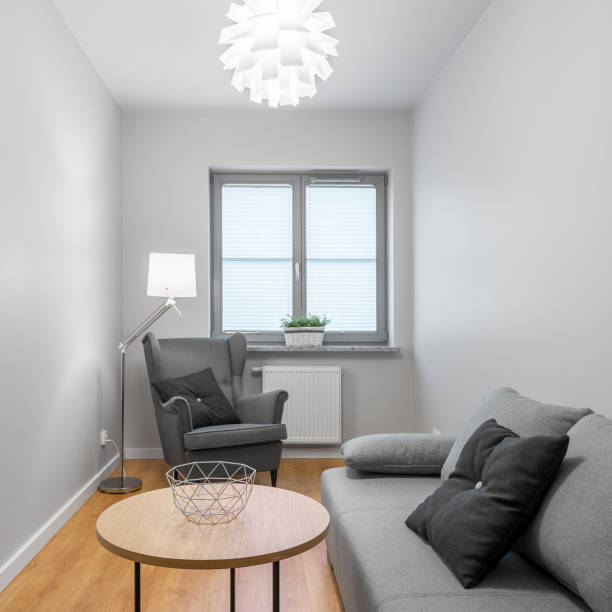chair: (139, 333, 291, 487)
floor lamp: (97, 247, 202, 501)
small plant: (282, 313, 331, 351)
sofa: (318, 381, 612, 612)
table: (93, 484, 329, 612)
